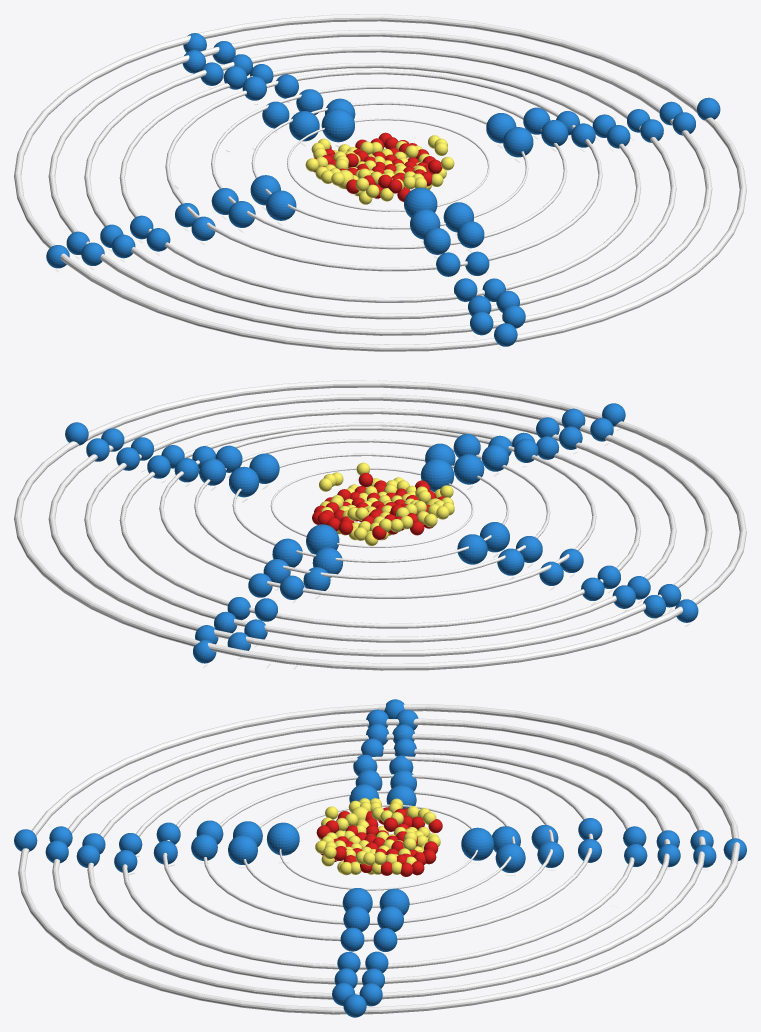
3 renders of one model, top to bottom at view 1: azimuth 30°, elevation 25°; view 2: azimuth 150°, elevation 25°; view 3: azimuth 270°, elevation 25°, orthographic.
Parts seen in each view (by area): view 1: Torus.008, Torus.007, Torus.006, Torus.005, Torus.004, Torus.003, Torus.002, Torus.001, g, g.005, g.003, g.008 (+10 smaller); view 2: Torus.008, Torus.007, Torus.006, Torus.005, Torus.004, Torus.003, Torus.002, Torus.001, g.001, g, g.006, g.004 (+12 smaller); view 3: Torus.008, Torus.007, Torus.006, Torus.005, Torus.004, Torus.003, Torus.002, g.001, g, Torus.001, g.007, g.009 (+6 smaller).
Boxes of the visible parts, bbox=[...] form: Torus.008: bbox=[14, 14, 746, 351]; Torus.007: bbox=[48, 30, 712, 335]; Torus.006: bbox=[84, 46, 676, 319]; Torus.005: bbox=[119, 63, 641, 302]; Torus.004: bbox=[165, 70, 602, 271]; Torus.003: bbox=[211, 85, 567, 249]; Torus.002: bbox=[251, 102, 528, 229]; Torus.001: bbox=[287, 118, 489, 211]; g: bbox=[321, 108, 354, 142]; g.005: bbox=[503, 127, 533, 157]; g.003: bbox=[266, 190, 296, 220]; g.008: bbox=[289, 111, 319, 141]; Torus.008: bbox=[14, 380, 746, 670]; Torus.007: bbox=[48, 394, 712, 656]; Torus.006: bbox=[84, 408, 676, 642]; Torus.005: bbox=[119, 422, 641, 628]; Torus.004: bbox=[159, 426, 596, 598]; Torus.003: bbox=[194, 439, 550, 579]; Torus.002: bbox=[232, 453, 509, 562]; Torus.001: bbox=[270, 467, 473, 547]; g.001: bbox=[421, 459, 454, 491]; g: bbox=[306, 524, 339, 554]; g.006: bbox=[454, 454, 484, 484]; g.004: bbox=[229, 466, 259, 497]; Torus.008: bbox=[18, 704, 740, 1014]; Torus.007: bbox=[52, 718, 705, 999]; Torus.006: bbox=[87, 733, 670, 984]; Torus.005: bbox=[122, 749, 634, 969]; Torus.004: bbox=[162, 756, 593, 941]; Torus.003: bbox=[203, 774, 553, 924]; Torus.002: bbox=[243, 790, 515, 907]; g.001: bbox=[266, 822, 299, 855]; g: bbox=[461, 827, 494, 860]; Torus.001: bbox=[279, 804, 477, 890]; g.007: bbox=[228, 835, 257, 864]; g.009: bbox=[495, 843, 525, 872].
Size of the model in its own units: 22.22 by 2.85 by 21.99.
